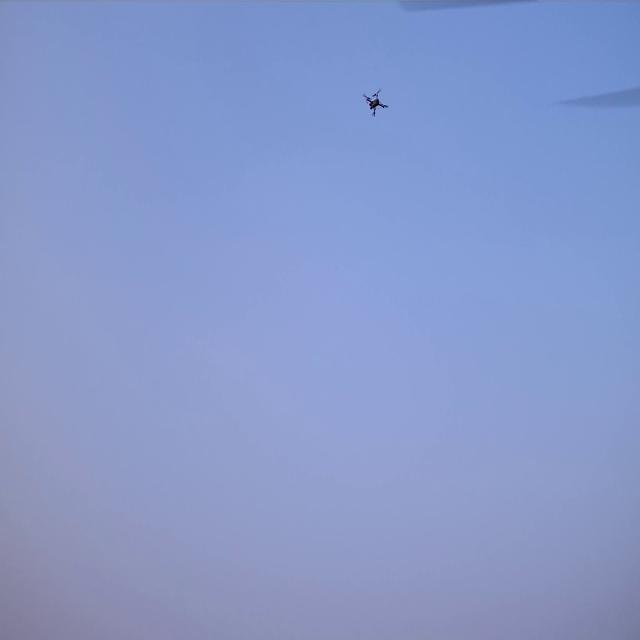UAV: (366, 93, 386, 116)
